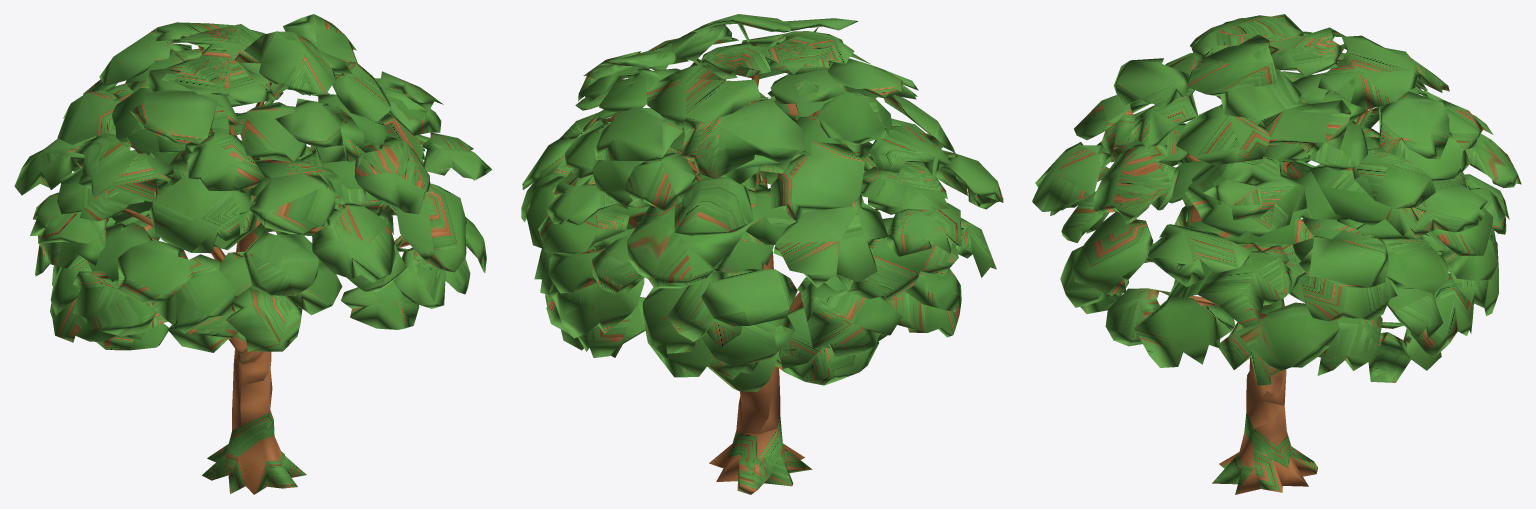
The model's file is tree.glb.
3 renders of one model, left to right at view 1: azimuth 30°, elevation 25°; view 2: azimuth 150°, elevation 25°; view 3: azimuth 270°, elevation 25°, orthographic. The views are drawn at different scales.
Parts seen in each view (by area): view 1: model; view 2: model; view 3: model.
Boxes of the visible parts, left/top/right/bottom form: model: left=14, top=14, right=491, bottom=494; model: left=521, top=14, right=1003, bottom=494; model: left=1032, top=14, right=1521, bottom=494.
Bounding box in the file's own units: 1 × 1 × 1.
Materials: 1 (1 with a texture image).
